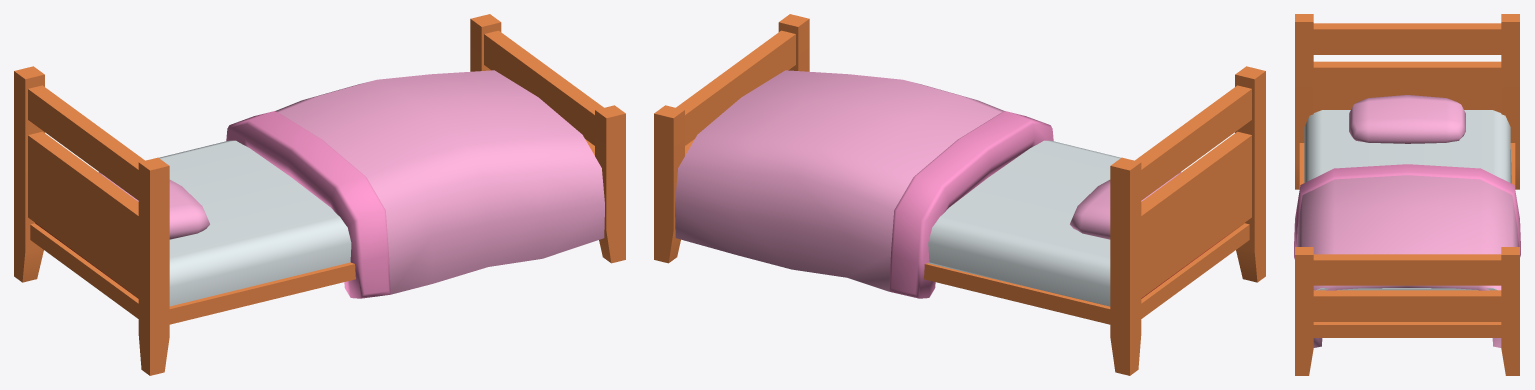
File: Kid Girl  bed.fbx
3 views of the same model, side by side, from view 1: azimuth 30°, elevation 25°; view 2: azimuth 150°, elevation 25°; view 3: azimuth 270°, elevation 25° (orthographic). The views are drawn at different scales.
Visible parts, largest first — view 1: wooden_simple_bed_wooden_simple_bed_mat_0; view 2: wooden_simple_bed_wooden_simple_bed_mat_0; view 3: wooden_simple_bed_wooden_simple_bed_mat_0.
Boxes of the visible parts, <box> form: wooden_simple_bed_wooden_simple_bed_mat_0: <box>14,14,625,375</box>; wooden_simple_bed_wooden_simple_bed_mat_0: <box>654,14,1265,375</box>; wooden_simple_bed_wooden_simple_bed_mat_0: <box>1294,14,1520,375</box>.
Size of the model in its own units: 394 by 162 by 197.
Materials: 1 (1 with a texture image).
